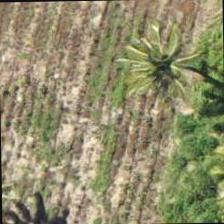Kelapa_Sawit: (126, 22, 218, 114)
